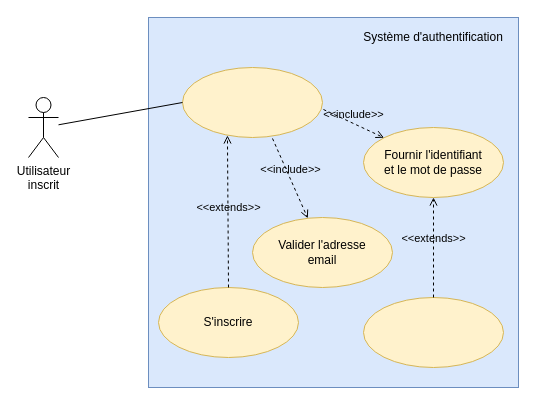
This 536x405 diagram has some shape labels left out. Each missing label, with the centre of its shape:
"Retrouver le mot de passe" goes at point (433, 332).
"S'authentifier" goes at point (252, 102).
